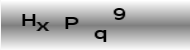9: (112, 6, 126, 20)
H: (21, 12, 36, 26)
P: (64, 16, 79, 30)
q: (93, 29, 108, 43)
x: (35, 21, 49, 32)
